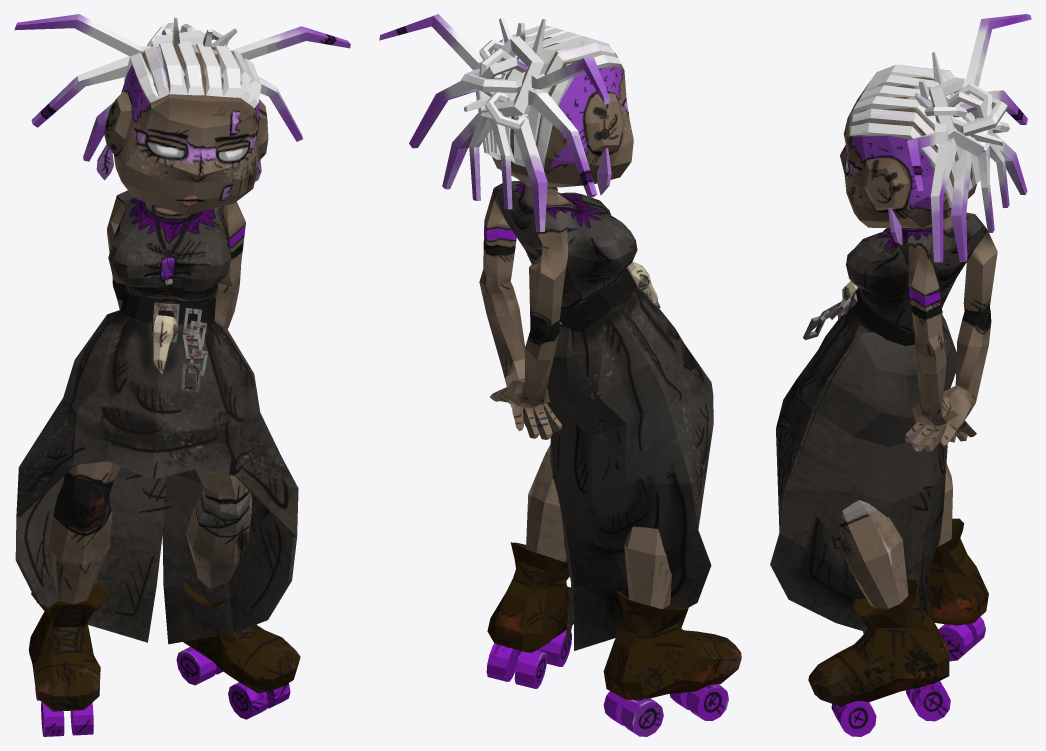
File: bruja_000000.obj
3 views of the same model, side by side, from view 1: azimuth 30°, elevation 25°; view 2: azimuth 150°, elevation 25°; view 3: azimuth 270°, elevation 25° (orthographic). The views are drawn at different scales.
Visible parts, largest first — view 1: Bruja_Plane.001; view 2: Bruja_Plane.001; view 3: Bruja_Plane.001.
Part boxes in pixels (x1=…): Bruja_Plane.001: x1=14, y1=14, x2=350, y2=736; Bruja_Plane.001: x1=379, y1=14, x2=741, y2=736; Bruja_Plane.001: x1=770, y1=14, x2=1031, y2=736.
Bounding box in the file's own units: 8.31 × 16.11 × 5.8.
